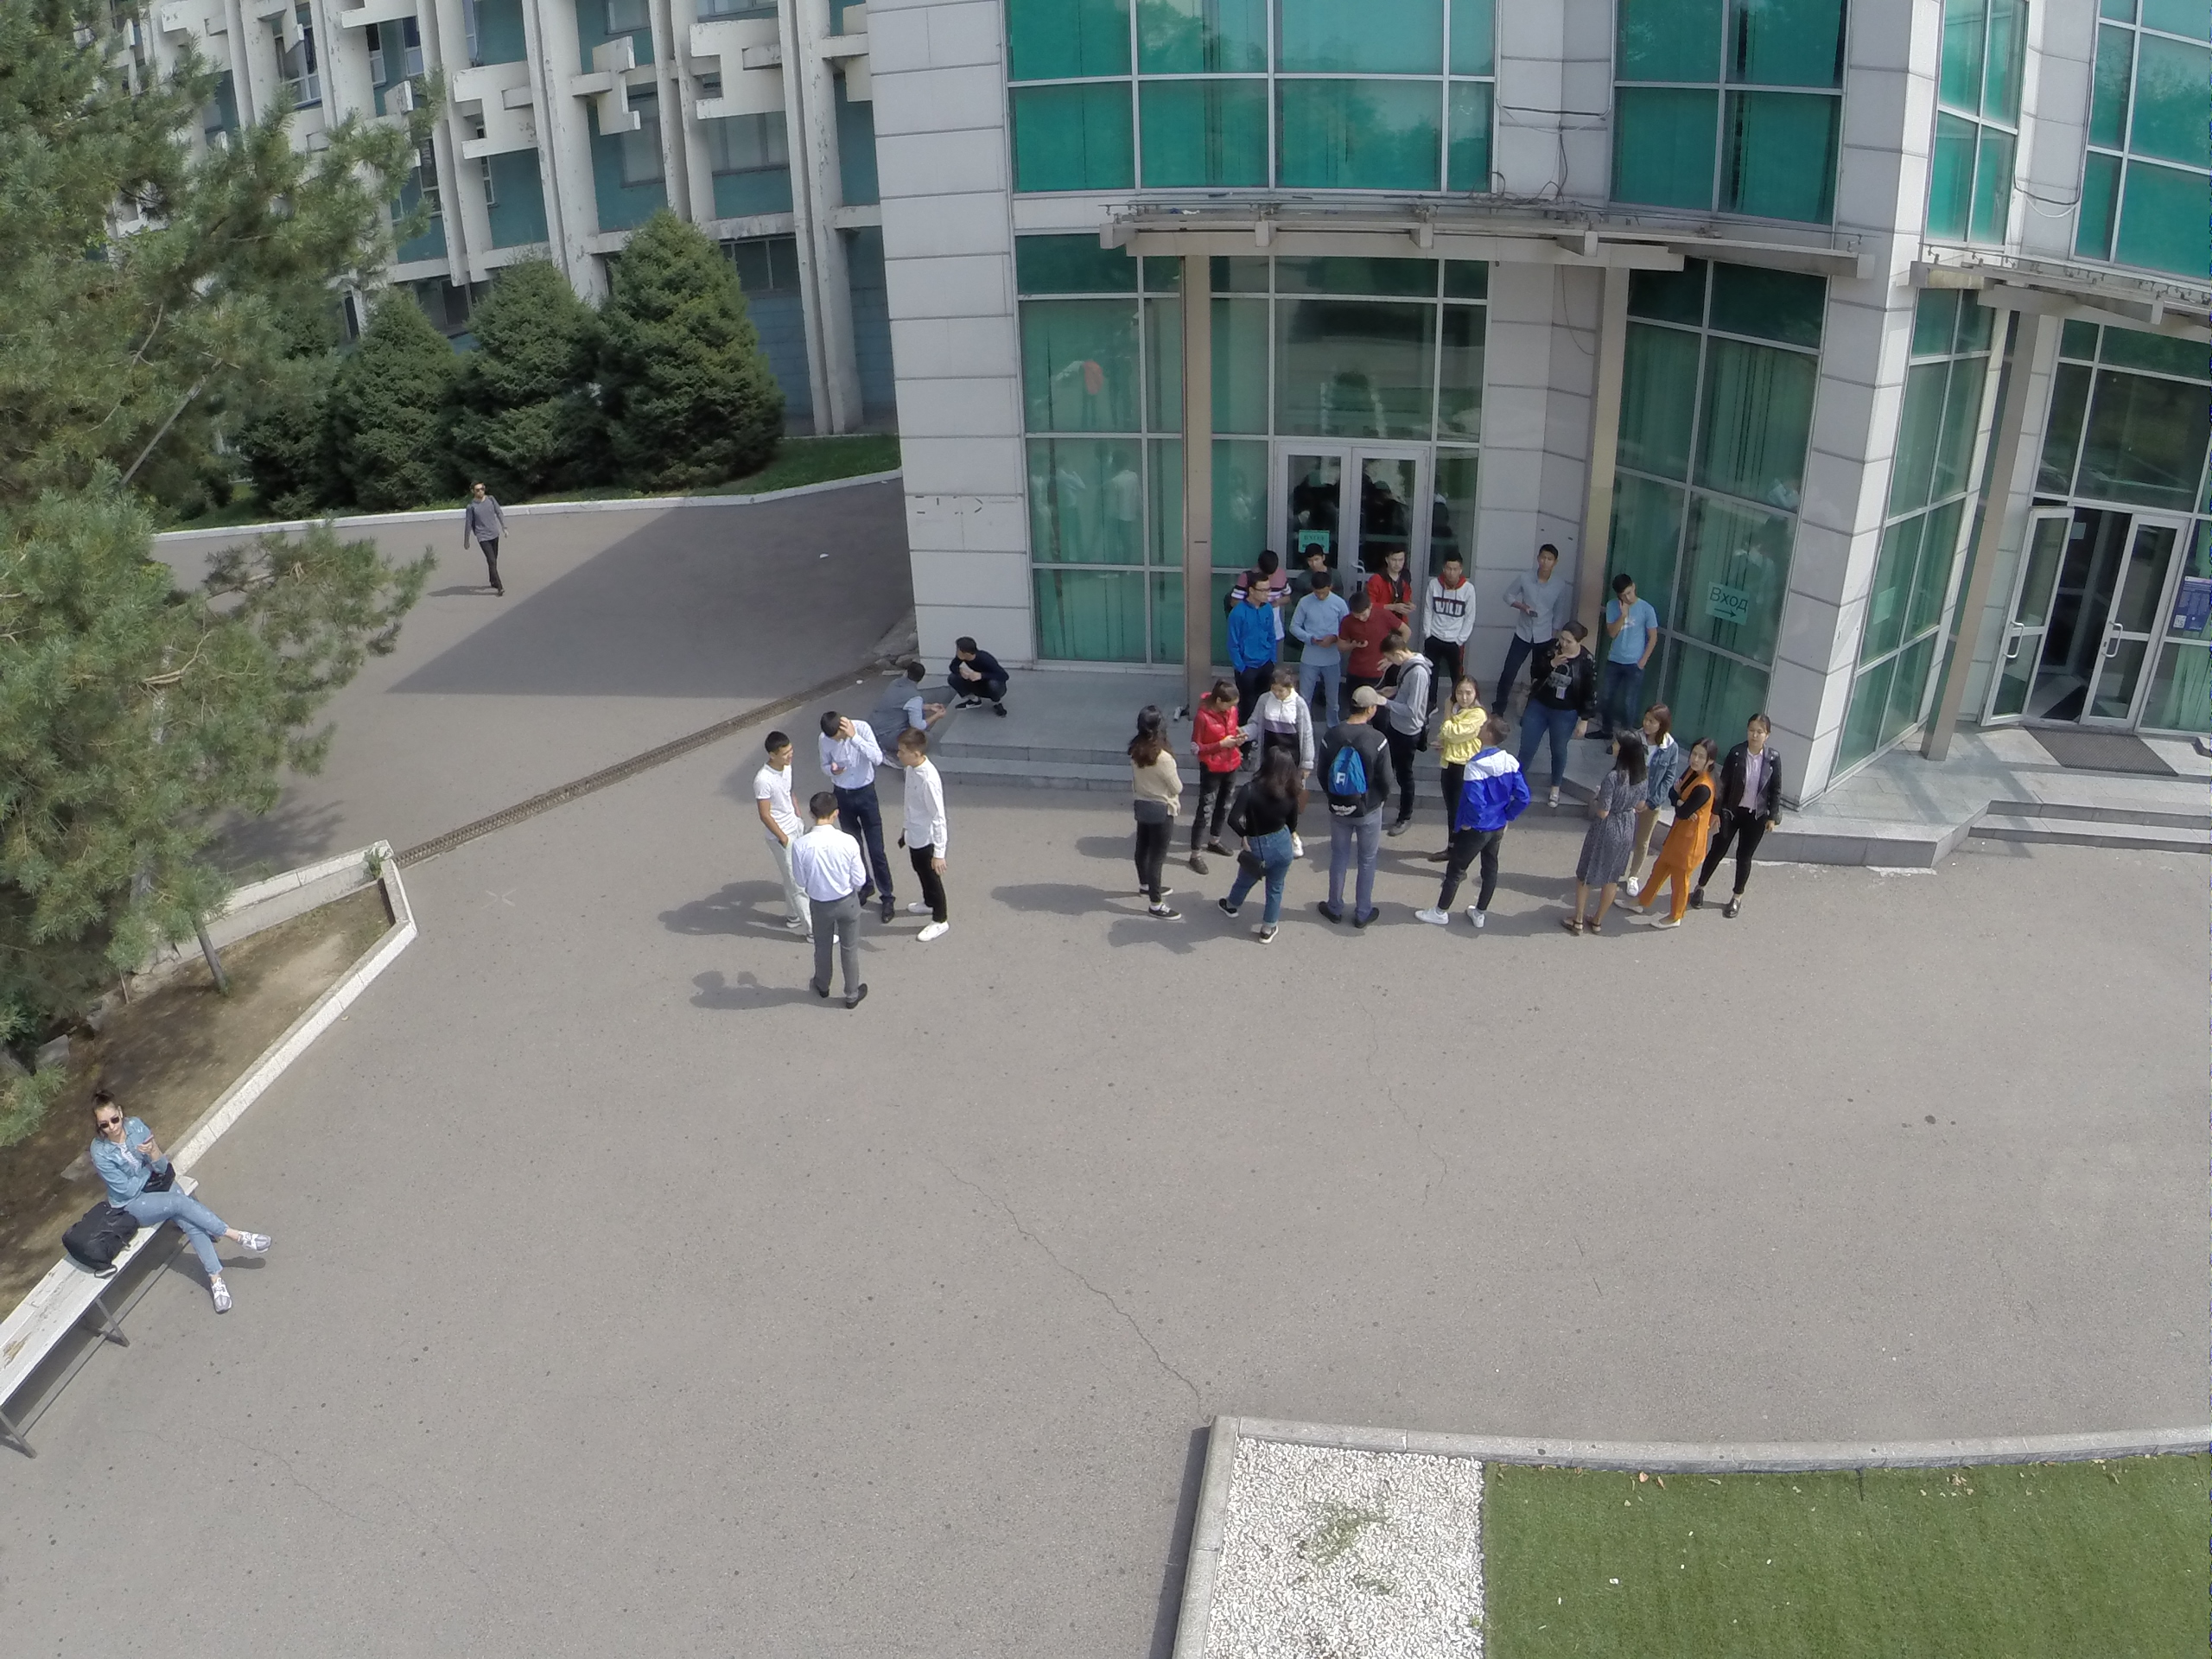person: (89, 1088, 275, 1317), (1421, 715, 1522, 934), (789, 788, 882, 1020), (1211, 741, 1310, 950), (808, 706, 901, 920), (1311, 680, 1389, 931), (1567, 715, 1645, 946), (1510, 612, 1602, 806), (1707, 702, 1787, 921), (1116, 697, 1188, 919), (1647, 731, 1722, 944), (889, 727, 958, 949), (1380, 629, 1435, 838), (753, 726, 806, 939), (1419, 550, 1480, 690), (1605, 571, 1658, 723), (1192, 673, 1234, 872), (453, 471, 513, 593), (1505, 537, 1567, 651), (936, 632, 1014, 718), (1636, 695, 1686, 816), (1436, 677, 1481, 809), (1230, 573, 1284, 672), (1254, 666, 1309, 753), (1365, 545, 1421, 632), (1291, 575, 1342, 665), (1340, 587, 1376, 690)
